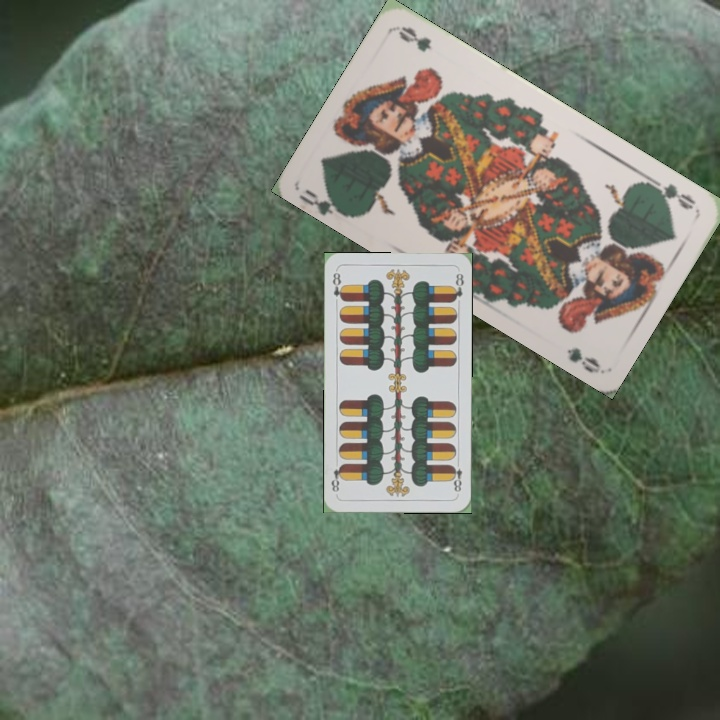E8: (447, 456, 464, 495), (328, 269, 347, 303)
GO: (644, 173, 699, 213), (297, 183, 353, 220)
